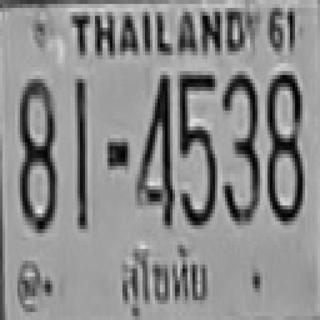N01: (75, 77, 85, 227)
N03: (220, 71, 258, 221)
N04: (132, 71, 172, 225)
N05: (178, 69, 215, 223)
N08: (265, 67, 302, 221), (18, 75, 55, 229)
P65: (116, 244, 210, 320)
